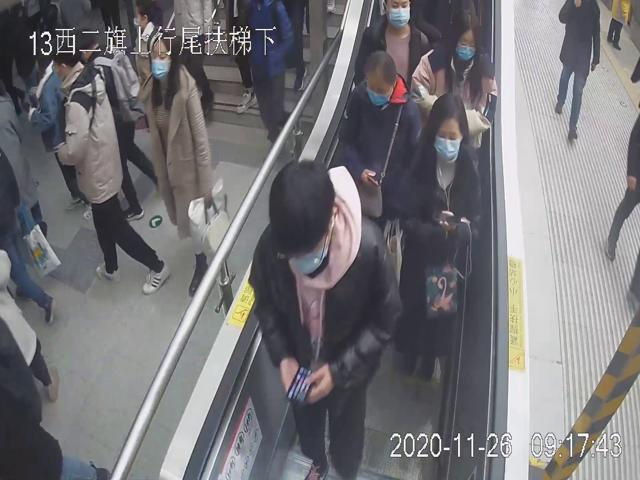person: (250, 155, 404, 480), (393, 92, 485, 396), (144, 21, 230, 301), (331, 48, 424, 232), (412, 0, 500, 128), (353, 0, 435, 94)
